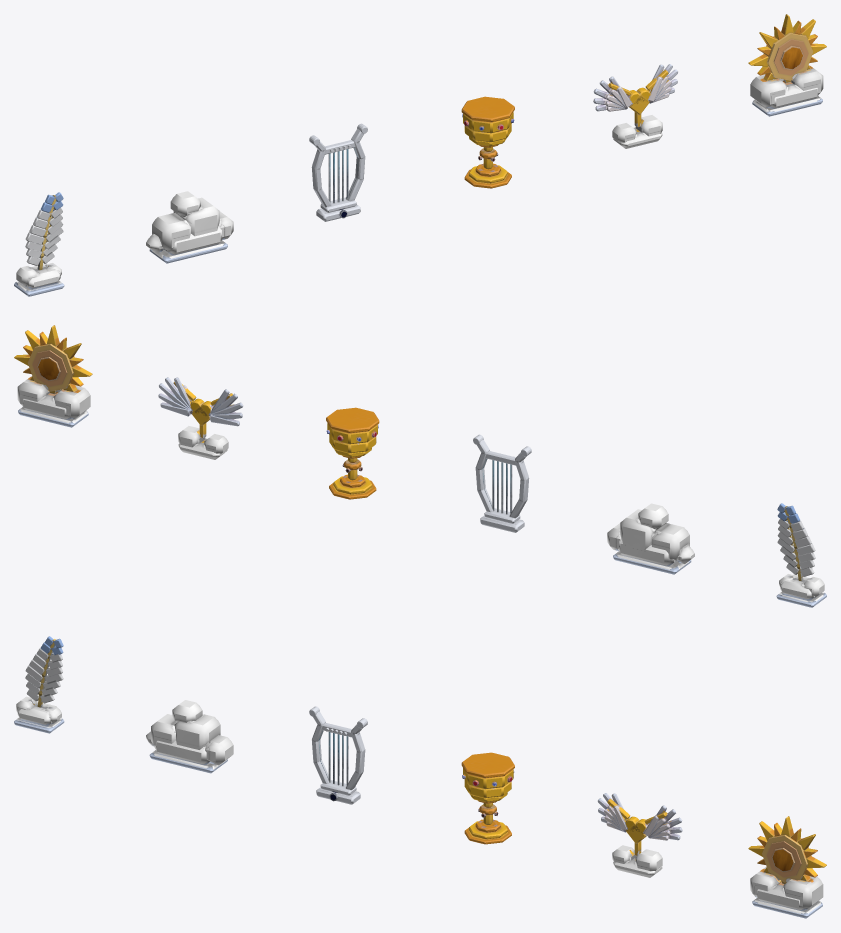
Rendered from Objets_Divin_Rig.fbx.
3 renders of one model, top to bottom at view 1: azimuth 30°, elevation 25°; view 2: azimuth 150°, elevation 25°; view 3: azimuth 330°, elevation 25°, orthographic.
Parts seen in each view (by area): view 1: Soleil, Nuage, Ailes, Calice, Plume, Lyre; view 2: Soleil, Nuage, Ailes, Calice, Plume, Lyre; view 3: Soleil, Nuage, Ailes, Calice, Plume, Lyre.
Boxes of the visible parts, x1,y1,x2,y2 form: Soleil: (748, 14, 826, 116); Nuage: (146, 191, 233, 263); Ailes: (593, 64, 677, 148); Calice: (461, 96, 514, 188); Plume: (14, 192, 64, 296); Lyre: (309, 123, 367, 221); Soleil: (14, 325, 92, 427); Nuage: (607, 503, 694, 574); Ailes: (158, 377, 243, 459); Calice: (326, 407, 379, 499); Plume: (776, 503, 826, 607); Lyre: (473, 434, 531, 532); Soleil: (748, 816, 826, 918); Nuage: (146, 700, 233, 773); Ailes: (597, 793, 682, 877); Calice: (461, 752, 514, 844); Plume: (14, 636, 64, 733); Lyre: (309, 706, 367, 804).
Size of the model in its own units: 55.75 by 6 by 3.15.
1 material, 1 textured.
